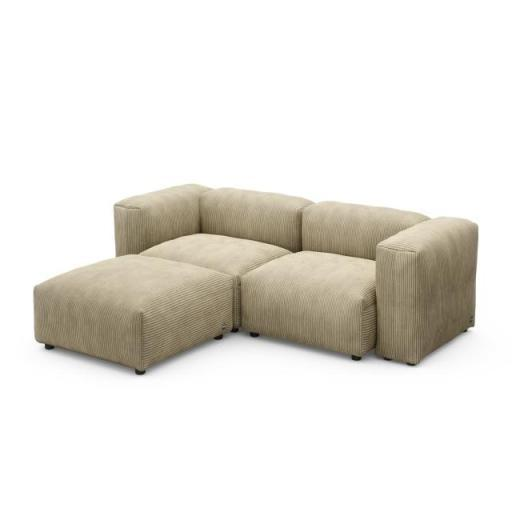sofa: (54, 150, 494, 406)
